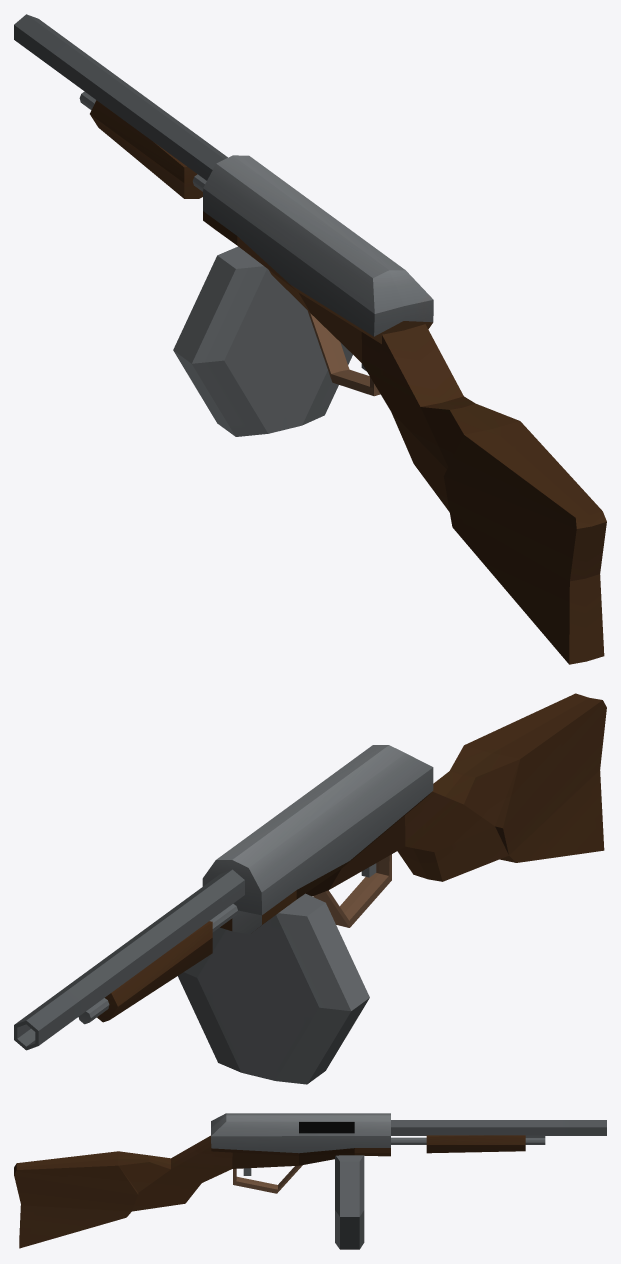
Rendered from little_tommy.fbx.
3 renders of one model, top to bottom at view 1: azimuth 30°, elevation 25°; view 2: azimuth 150°, elevation 25°; view 3: azimuth 270°, elevation 25°, orthographic. The views are drawn at different scales.
Parts seen in each view (by area): view 1: Cube.003; view 2: Cube.003; view 3: Cube.003.
Boxes of the visible parts, x1,y1,x2,y2 form: Cube.003: (14,14,606,664); Cube.003: (14,693,606,1084); Cube.003: (14,1113,606,1249).
Bounding box in the file's own units: 140 × 186 × 772.
